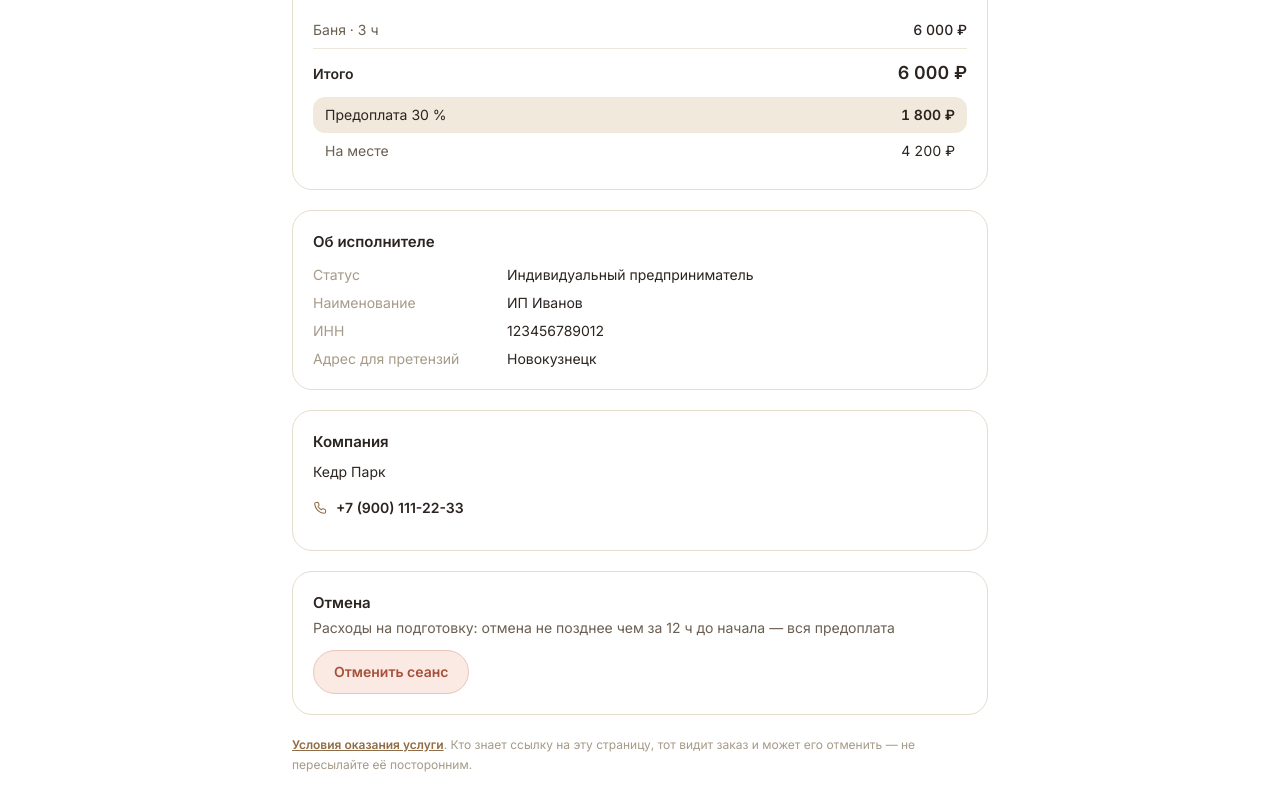
ServiceOrderPage › replaces the screen with the order of a 409 «CancelNotAllowed» and prints its text
(page scrolled)
Click the button "Отменить сеанс" at (391, 672), box left=313, top=650, right=469, bottom=694
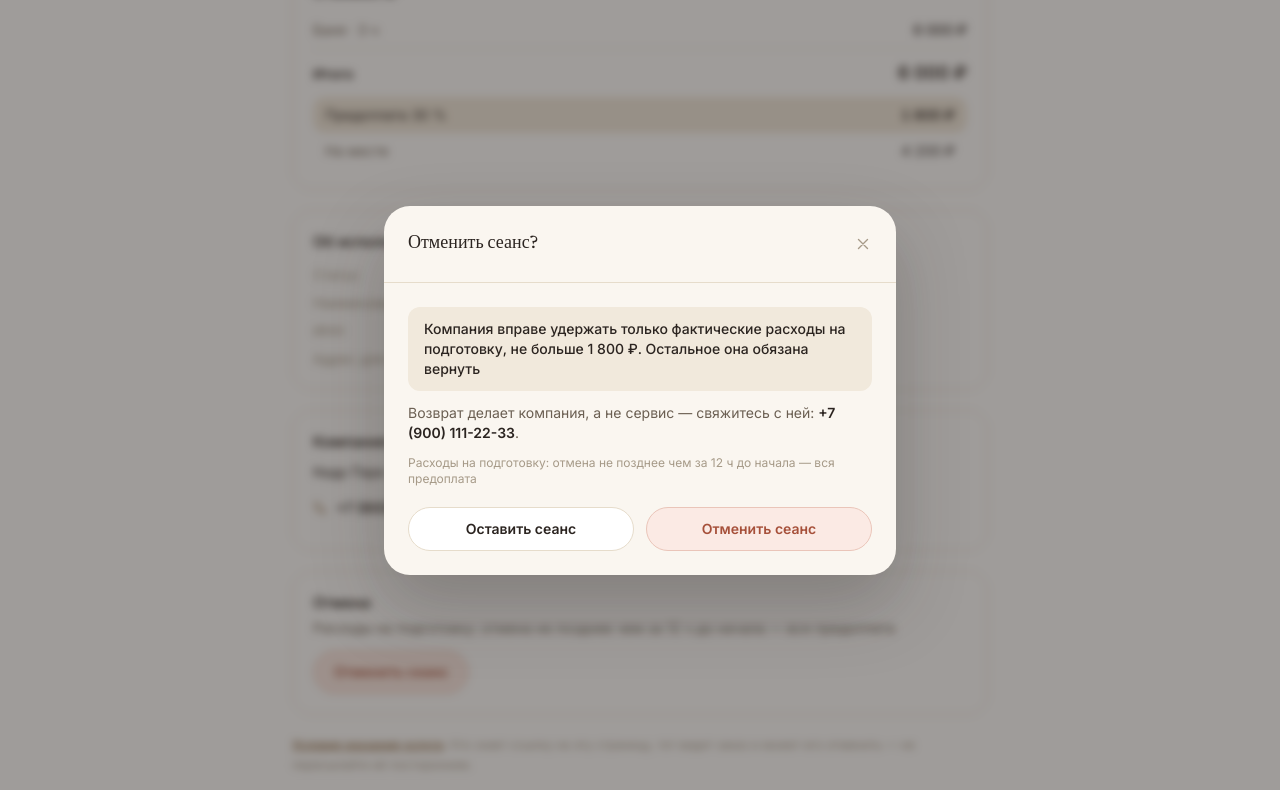
Click the button "Отменить сеанс" at (759, 528), box left=646, top=506, right=872, bottom=550
(page scrolled)
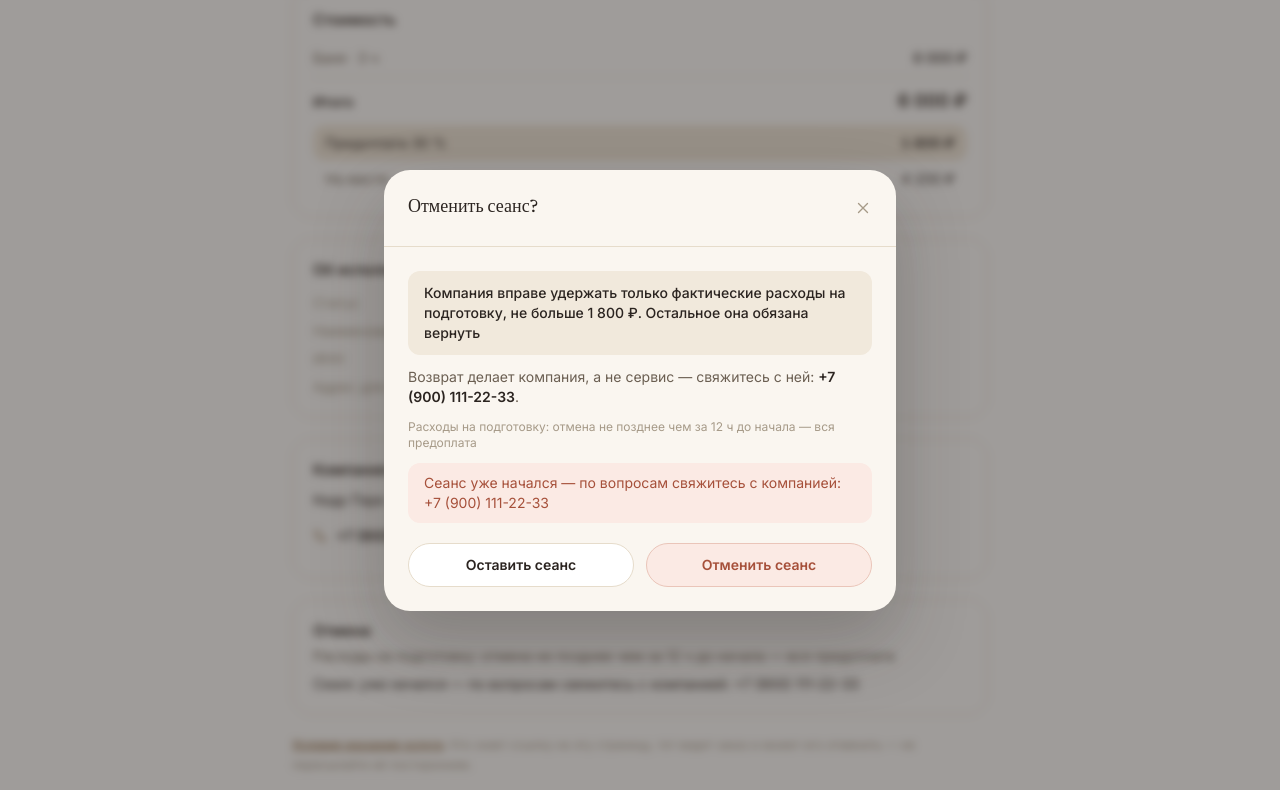
Expected: the message shows "Сеанс уже начался", left=424, top=474, right=841, bottom=510
